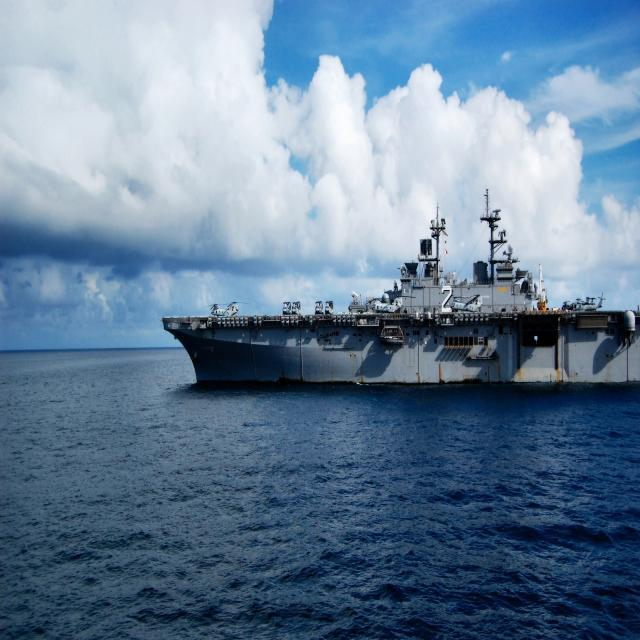navalvessels: (159, 169, 626, 412)
